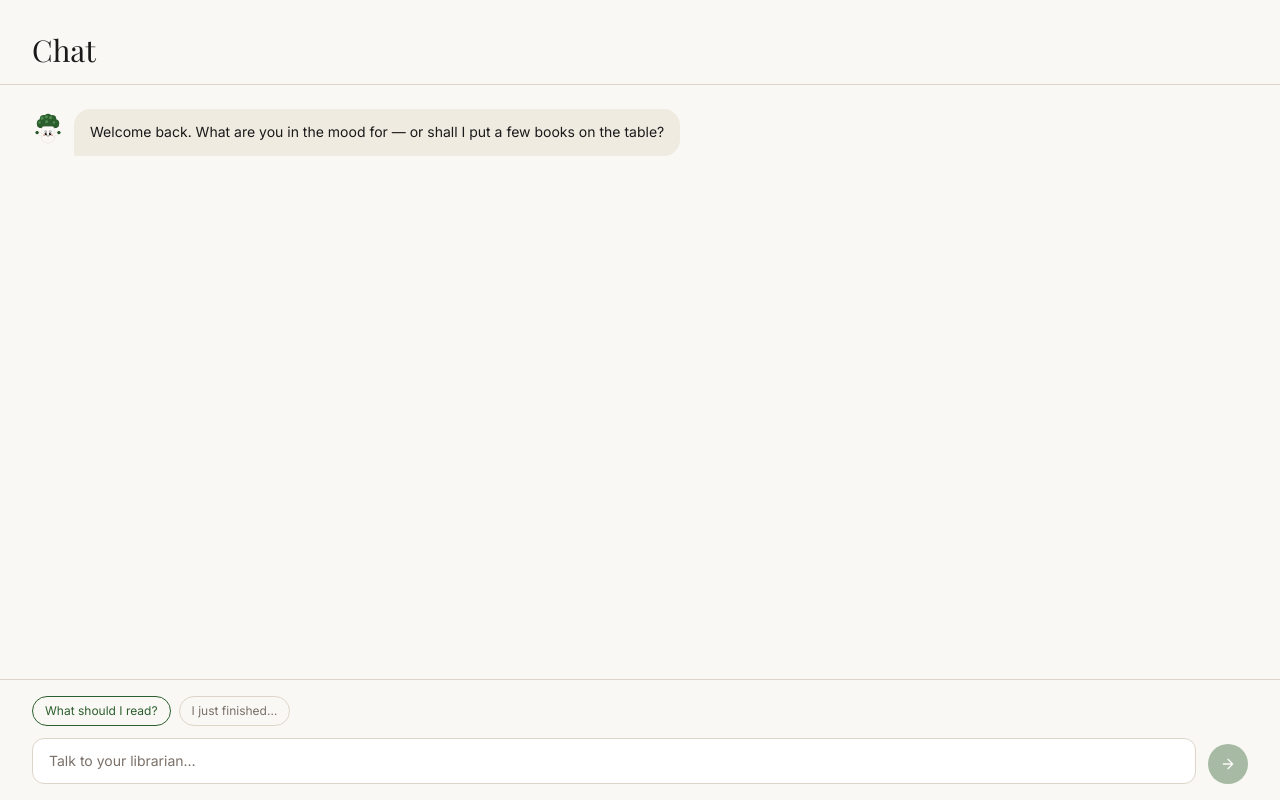
Test: Librarian (Chat) › keeps the table sticky through a pure-conversation turn
Type "recommend something" into the text box with placeholder "Talk to your librarian…". click: point(614, 761)
box: [32,738,1196,784]
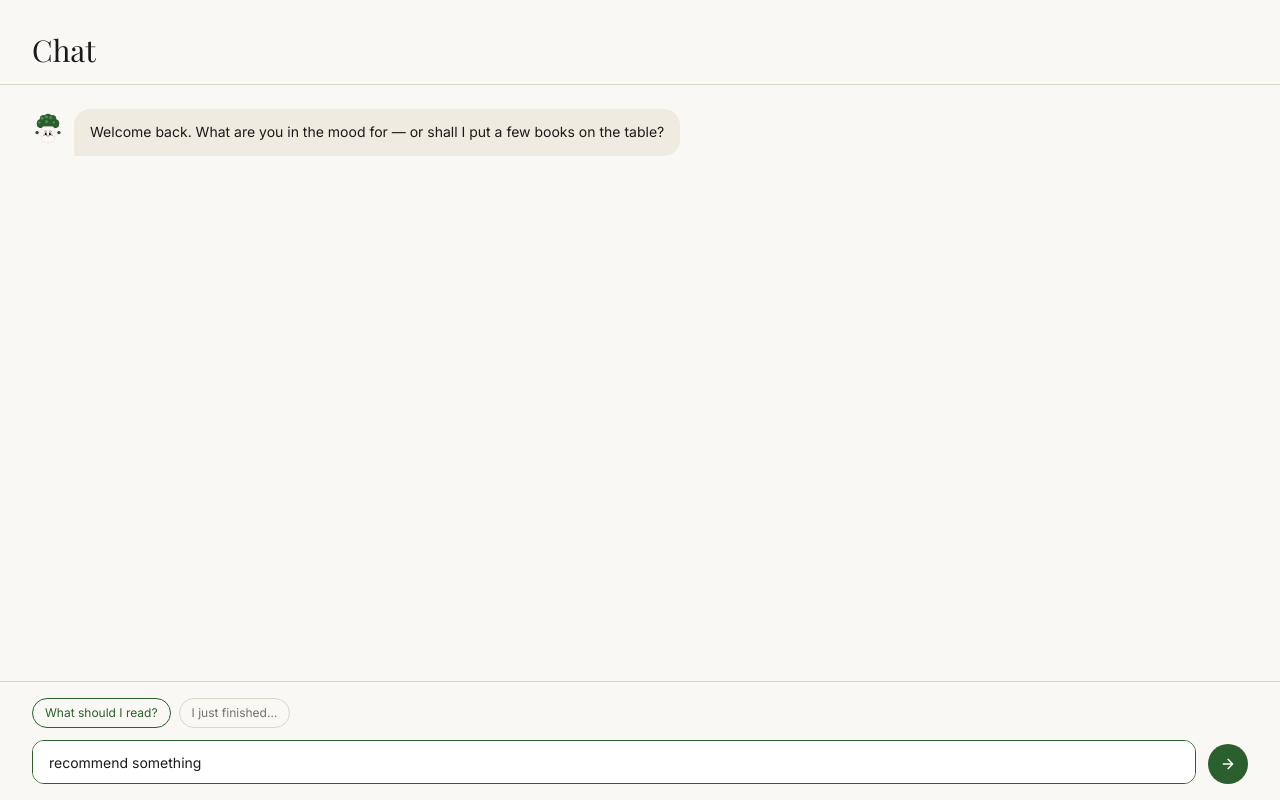
Click the button named "Send". click: point(1228, 764)
box: [1208,744,1248,784]
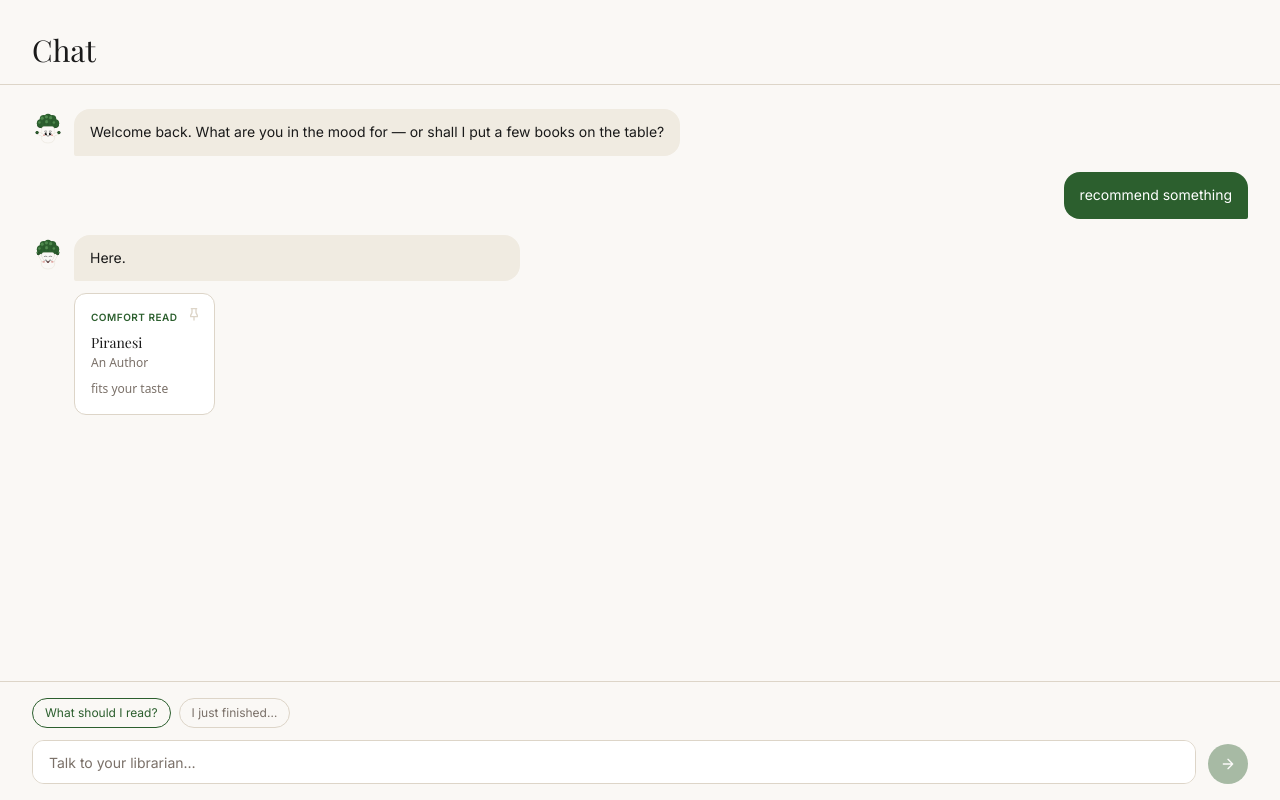
Expected: the text "Piranesi" is shown, [91,333,142,352]
Type "I am gutted" into the text box with placeholder "Talk to your librarian…". click: point(614, 762)
box: [32,740,1196,784]
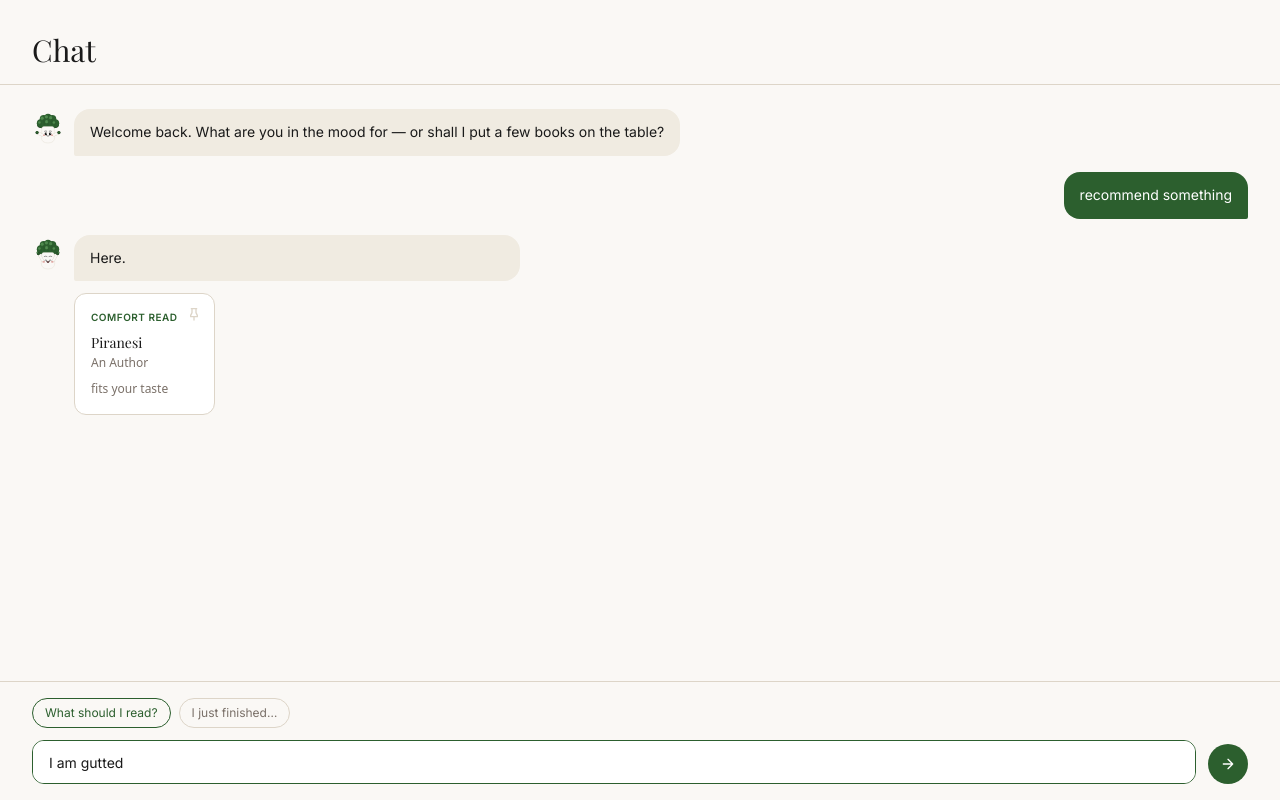
Click the button named "Send". click: point(1228, 764)
box: [1208,744,1248,784]
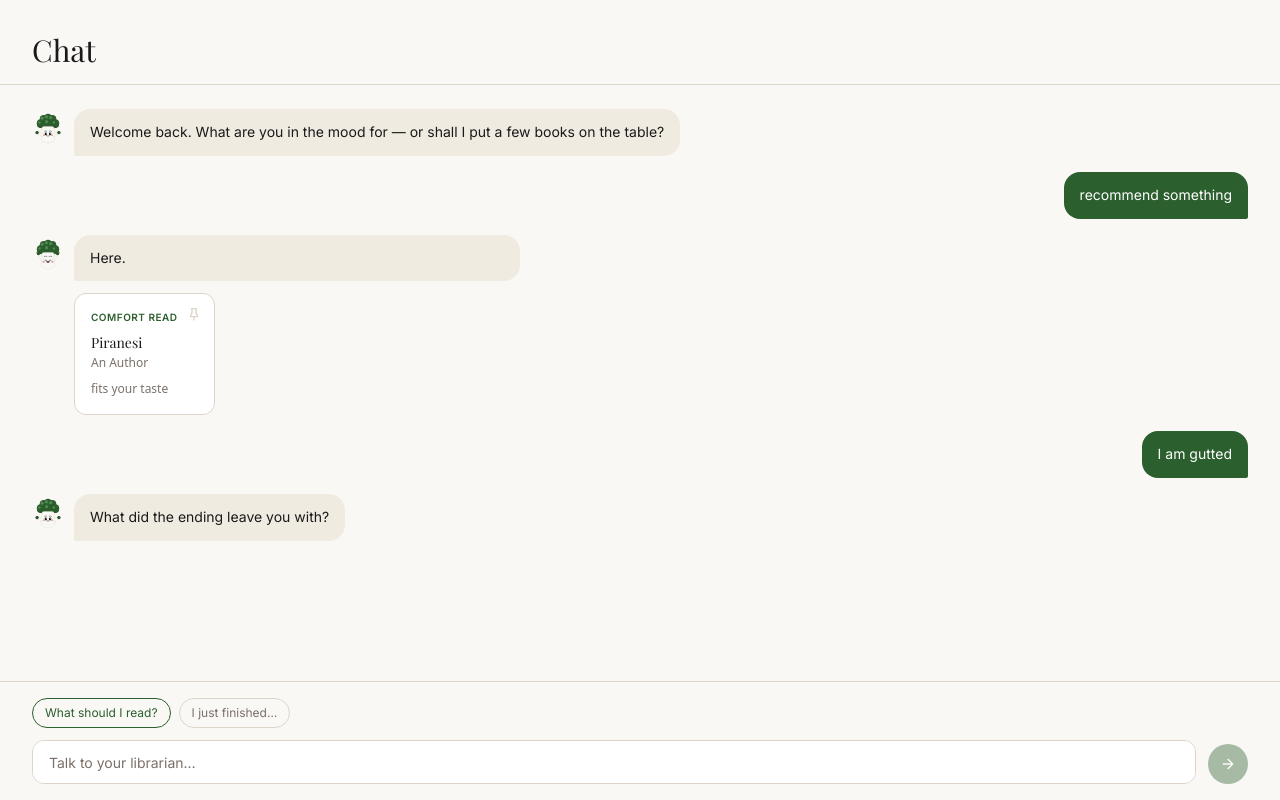
Expected: the text "Piranesi" is shown, [91,333,142,352]
Expected: the text "What did the ending leave you with?" is shown, [74,494,345,541]
